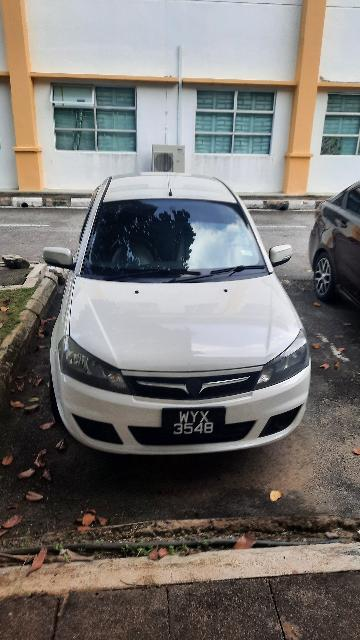License_Plate: (158, 407, 234, 437)
car: (40, 166, 316, 459)
